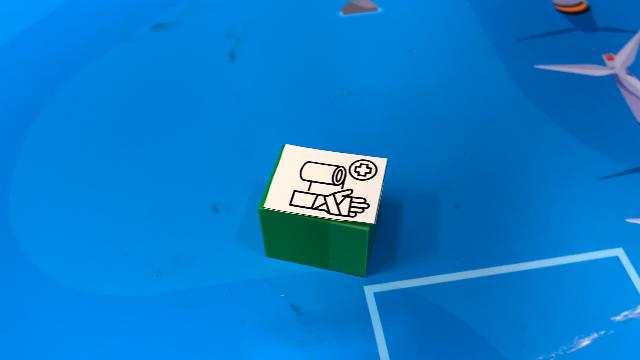bandage: (257, 141, 389, 277)
